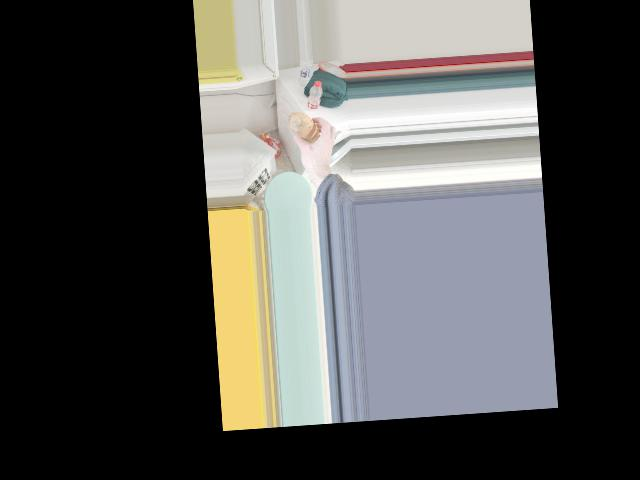sweet_potato: (289, 111, 320, 146)
